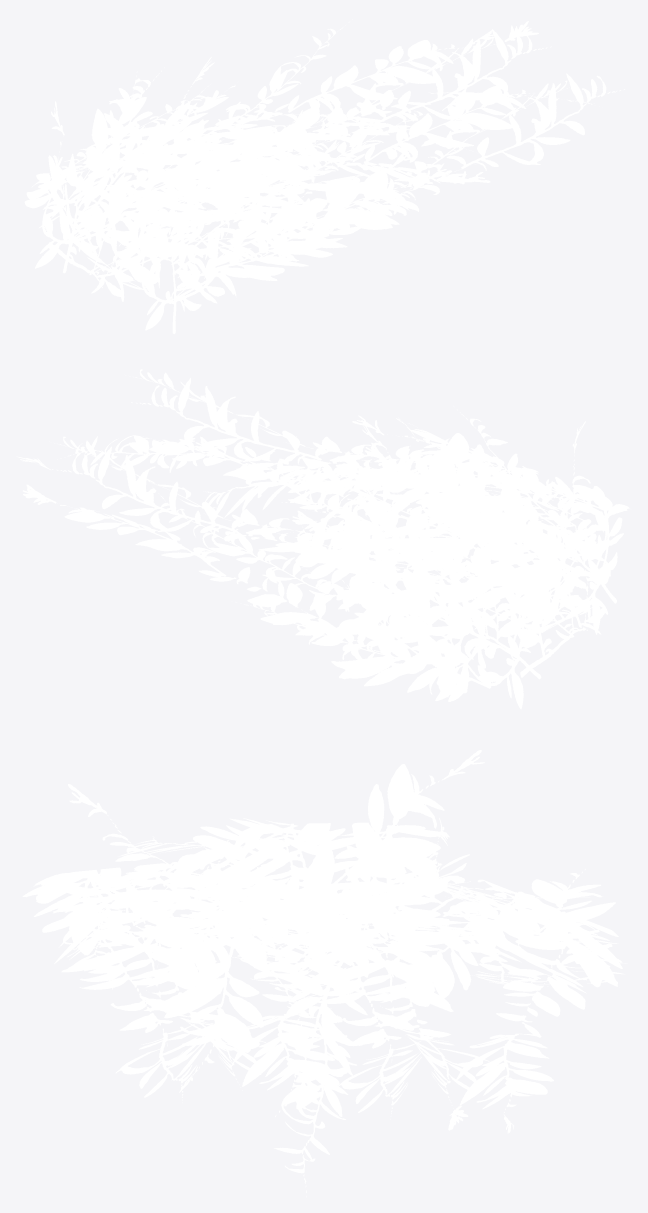
The picture shows the model from 3 angles, top to bottom: view 1: azimuth 30°, elevation 25°; view 2: azimuth 150°, elevation 25°; view 3: azimuth 270°, elevation 25°; orthographic projection. The views are drawn at different scales.
Visible parts, largest first — view 1: SM_GF_Climbing_A_03_LOD0; view 2: SM_GF_Climbing_A_03_LOD0; view 3: SM_GF_Climbing_A_03_LOD0.
Part boxes in pixels (x1,y1,x2,y2): SM_GF_Climbing_A_03_LOD0: (24, 19, 624, 333); SM_GF_Climbing_A_03_LOD0: (16, 369, 629, 709); SM_GF_Climbing_A_03_LOD0: (22, 750, 627, 1197).
Size of the model in its own units: 2.25 by 0.7506 by 1.59.
1 material, 1 textured.
